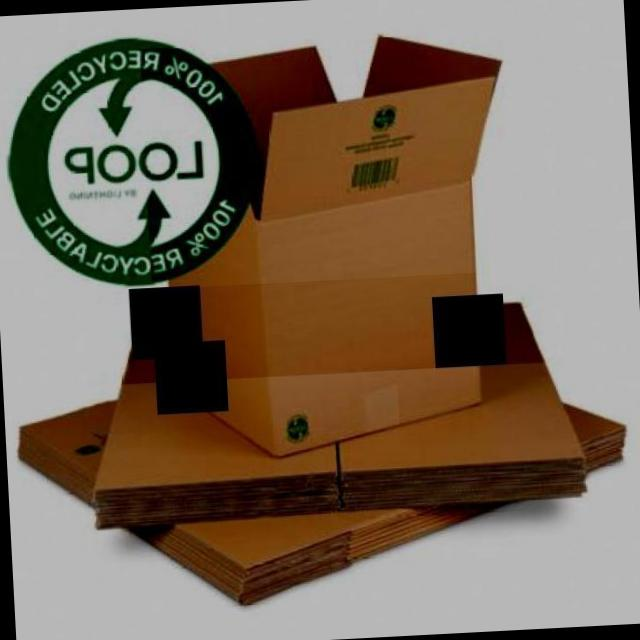box: (139, 30, 532, 468), (9, 358, 634, 622), (76, 268, 590, 540)
